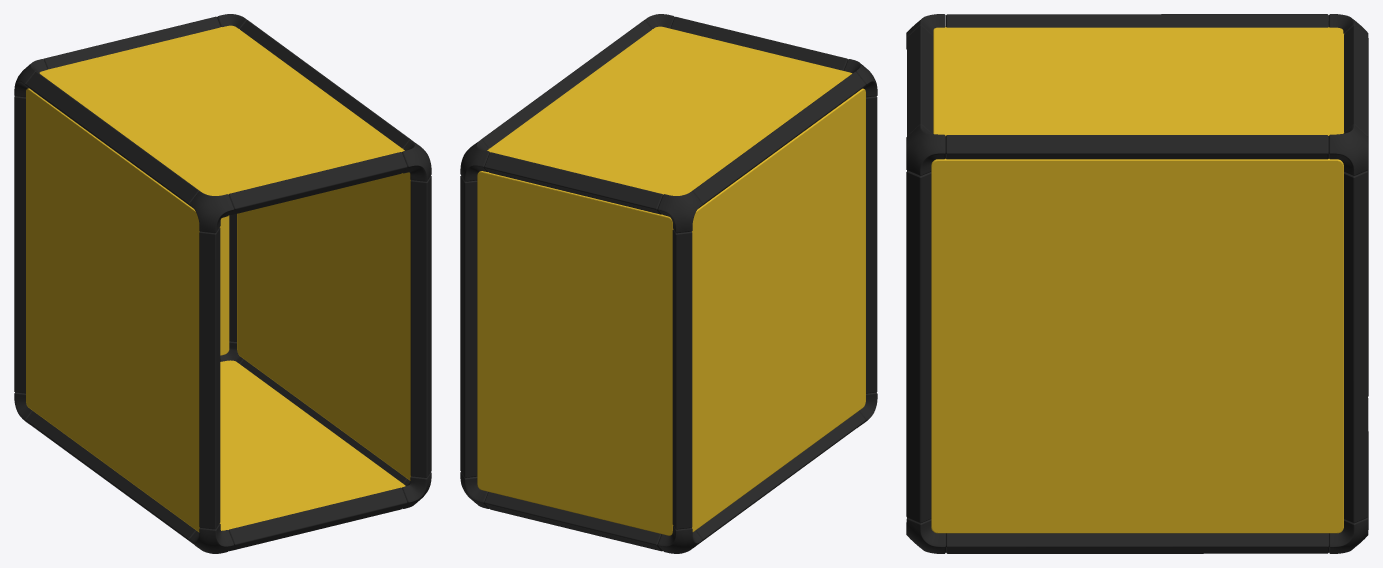
The picture shows the model from 3 angles, left to right: view 1: azimuth 30°, elevation 25°; view 2: azimuth 150°, elevation 25°; view 3: azimuth 270°, elevation 25°; orthographic projection. The views are drawn at different scales.
Visible parts, largest first — view 1: 229x374x374; view 2: 229x374x374; view 3: 229x374x374.
Boxes of the visible parts, box(x1,y1,x2,y2) form: 229x374x374: box(14, 14, 431, 553); 229x374x374: box(460, 14, 877, 553); 229x374x374: box(906, 14, 1368, 553).
Size of the model in its own units: 0.3067 by 0.4516 by 0.4512.
